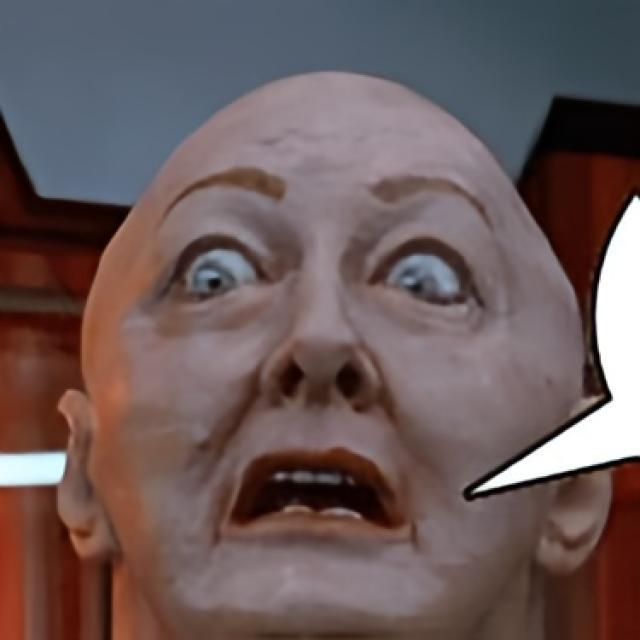fear: (79, 68, 585, 632)
